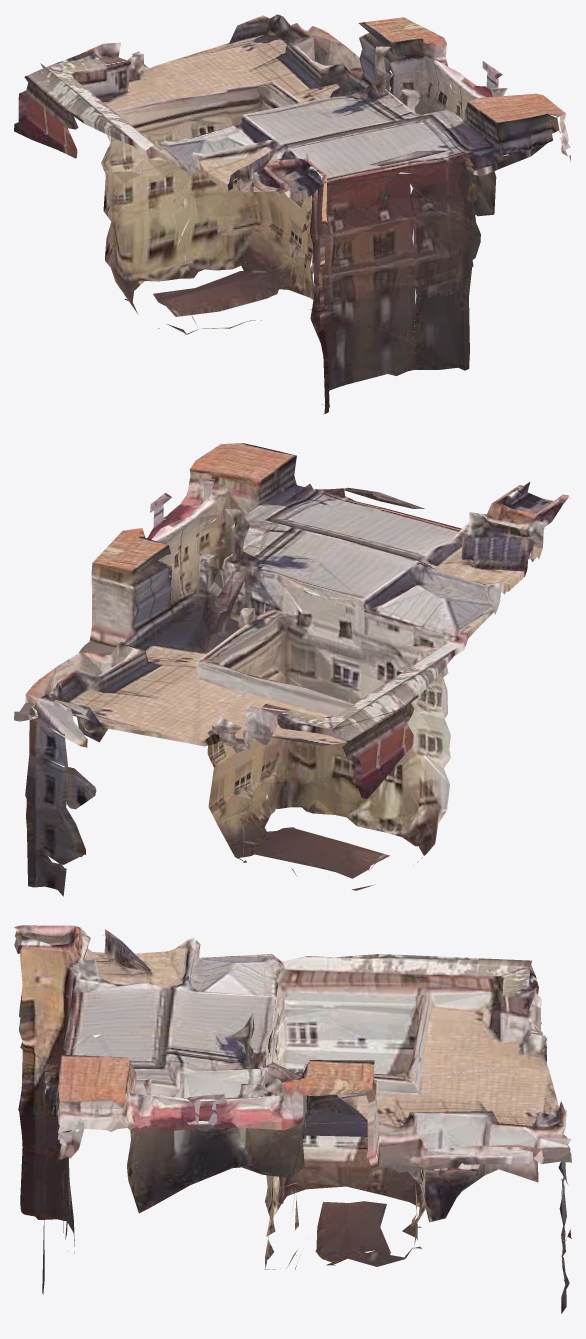
The picture shows the model from 3 angles, top to bottom: view 1: azimuth 30°, elevation 25°; view 2: azimuth 150°, elevation 25°; view 3: azimuth 270°, elevation 25°; orthographic projection. The views are drawn at different scales.
Parts seen in each view (by area): view 1: Mesh_0; view 2: Mesh_0; view 3: Mesh_0.
Part boxes in pixels (x1,y1,x2,y2): Mesh_0: [14, 14, 570, 414]; Mesh_0: [14, 443, 571, 896]; Mesh_0: [14, 925, 571, 1313].
Size of the model in its own units: 33.32 by 23.52 by 41.38.
2 materials, 2 textured.
